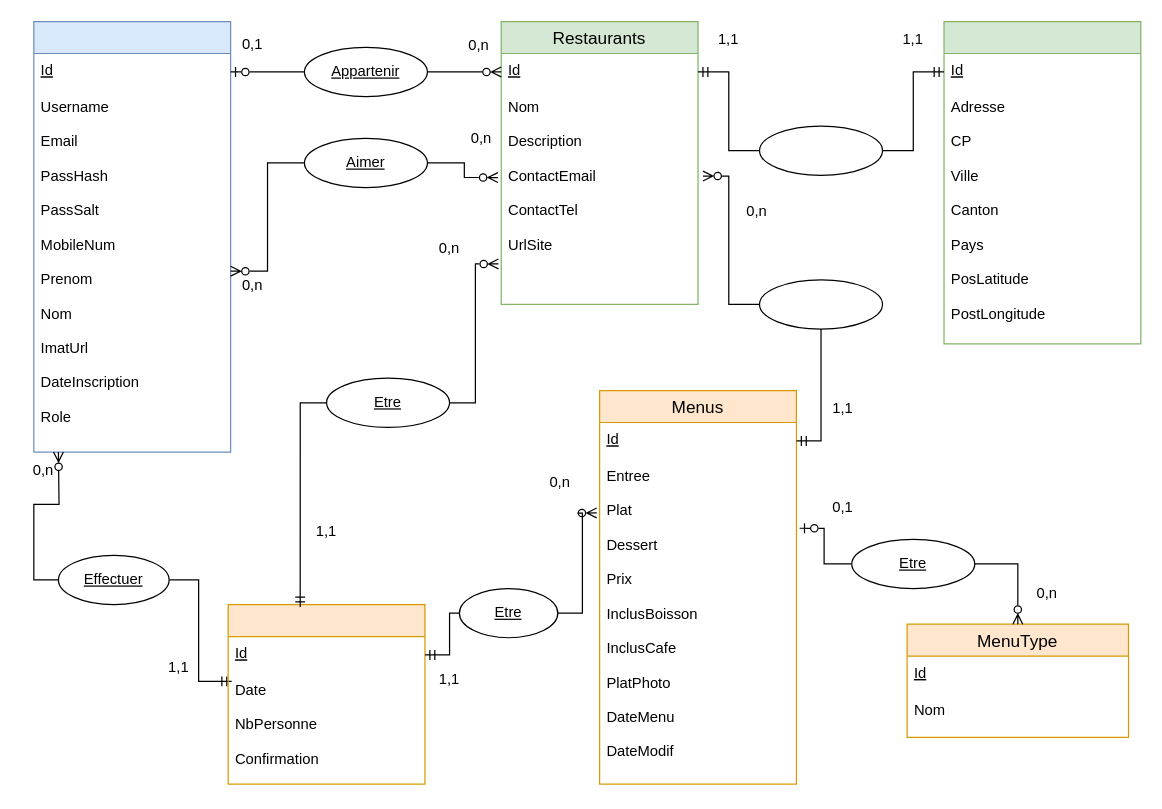
This 1162x809 diagram has some shape labels left out. The box of each missing label's shape, as (x1, y1, x2, y2) in pixels:
Avoir: (758, 279, 883, 329)
Localisations: (943, 20, 1141, 344)
Reservation: (227, 603, 425, 784)
Situer: (758, 125, 883, 175)
Users: (33, 20, 231, 452)
